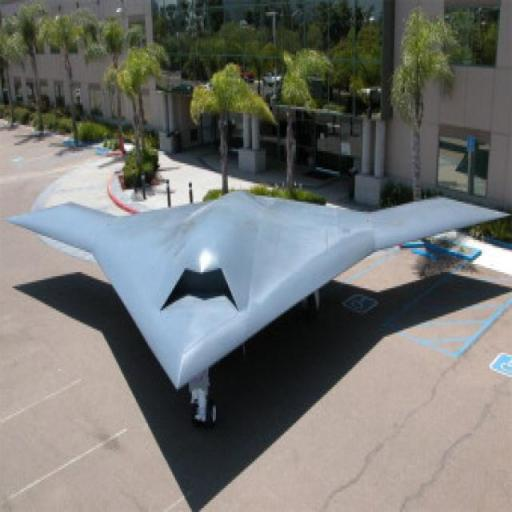uav: (5, 168, 512, 419)
